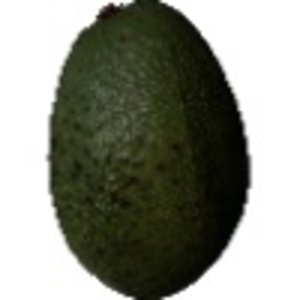abacate: (45, 1, 250, 299)
